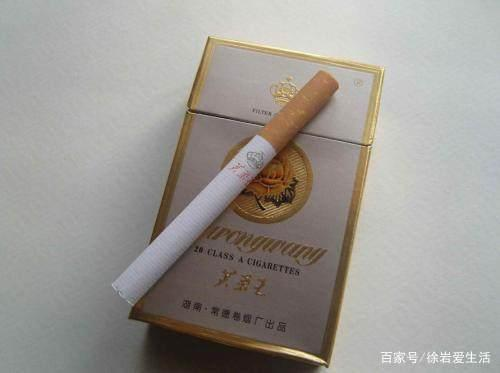smoke: (111, 70, 340, 306)
